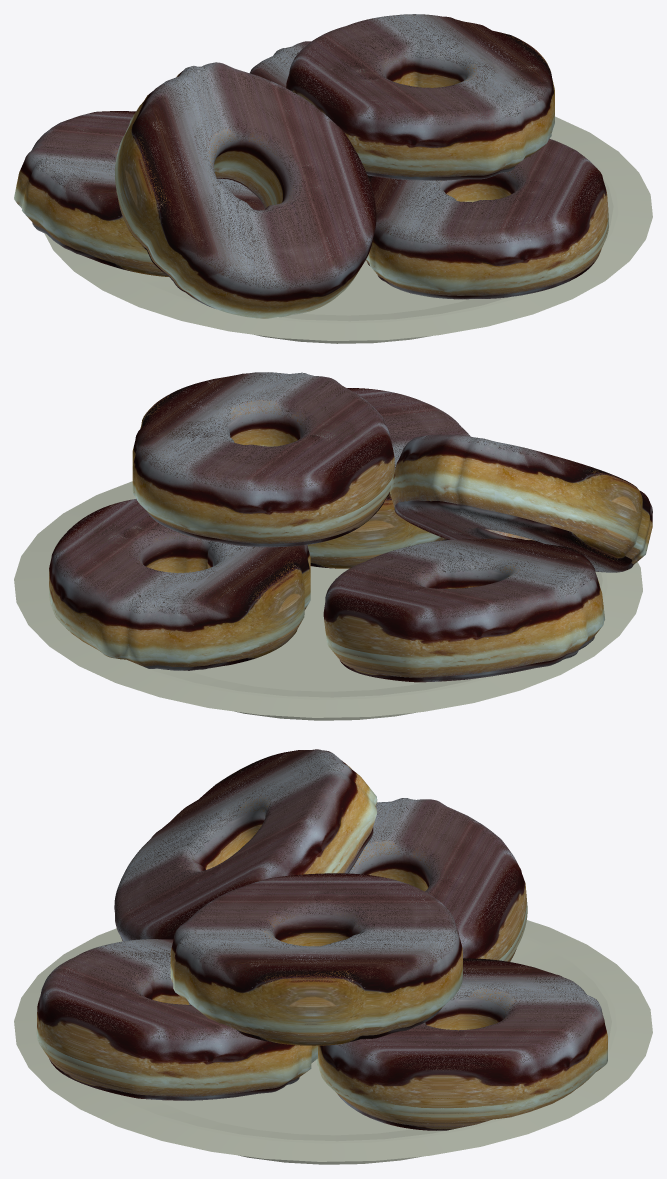
Rendered from Donuts.dae.
The picture shows the model from 3 angles, top to bottom: view 1: azimuth 30°, elevation 25°; view 2: azimuth 150°, elevation 25°; view 3: azimuth 270°, elevation 25°; orthographic projection. The views are drawn at different scales.
Visible parts, largest first — view 1: ChocolateGlazedDoughNut (×15), Plate; view 2: ChocolateGlazedDoughNut (×17), Plate; view 3: ChocolateGlazedDoughNut (×20), Plate.
Boxes of the visible parts, x1=… form: ChocolateGlazedDoughNut (×15): x1=14, y1=14, x2=608, y2=318; Plate: x1=44, y1=116, x2=652, y2=343; ChocolateGlazedDoughNut (×17): x1=49, y1=372, x2=652, y2=681; Plate: x1=14, y1=481, x2=642, y2=720; ChocolateGlazedDoughNut (×20): x1=36, y1=749, x2=607, y2=1130; Plate: x1=14, y1=920, x2=652, y2=1164.
Size of the model in its own units: 9.37 by 9.01 by 3.58.
Materials: 4 (2 with a texture image).
